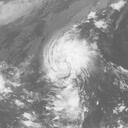cyclone: (42, 24, 96, 87)
